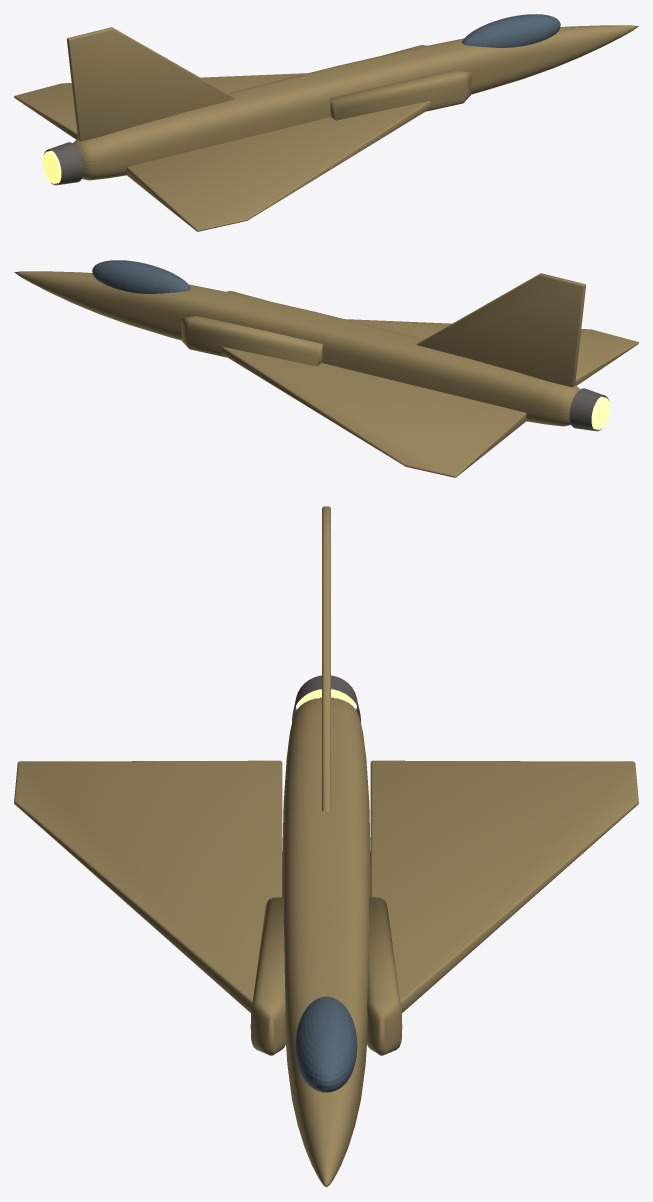
The model's file is jet.glb.
3 renders of one model, top to bottom at view 1: azimuth 30°, elevation 25°; view 2: azimuth 150°, elevation 25°; view 3: azimuth 270°, elevation 25°, orthographic. The views are drawn at different scales.
Parts seen in each view (by area): view 1: body, burner; view 2: body, burner; view 3: body.
Boxes of the visible parts, x1,y1,x2,y2 form: body: [14, 14, 638, 231]; burner: [43, 150, 61, 183]; body: [14, 260, 638, 477]; burner: [591, 396, 609, 429]; body: [14, 506, 638, 1187].
Size of the model in its own units: 15.52 by 3.79 by 8.5.
4 materials, 1 textured.
